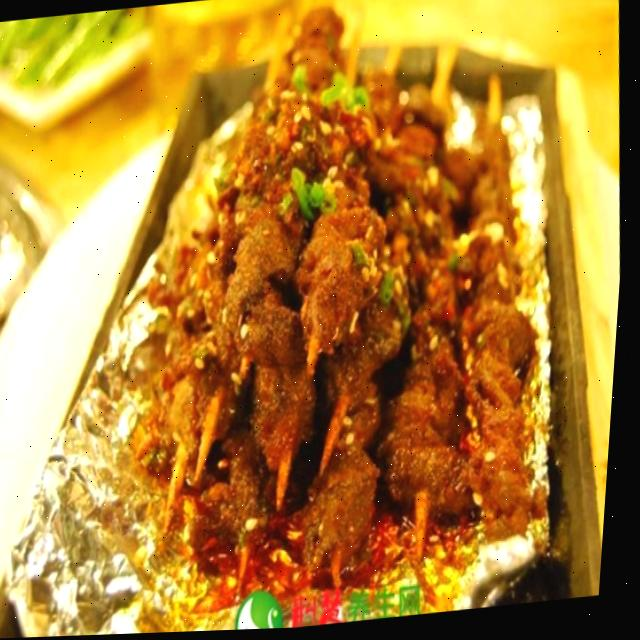烧串烤肉: (112, 0, 577, 615)
